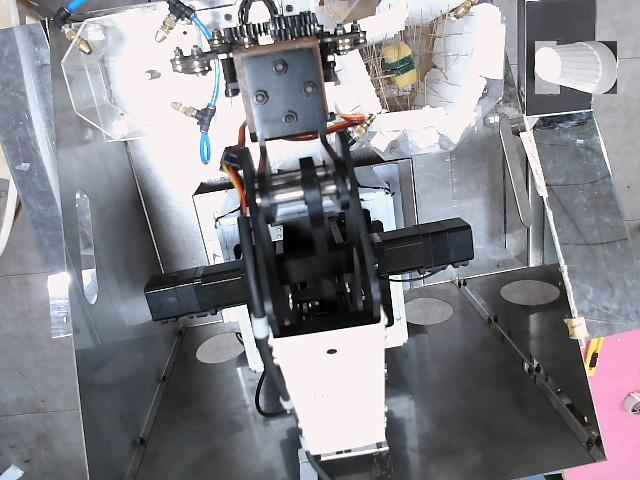cup: (535, 41, 617, 94)
